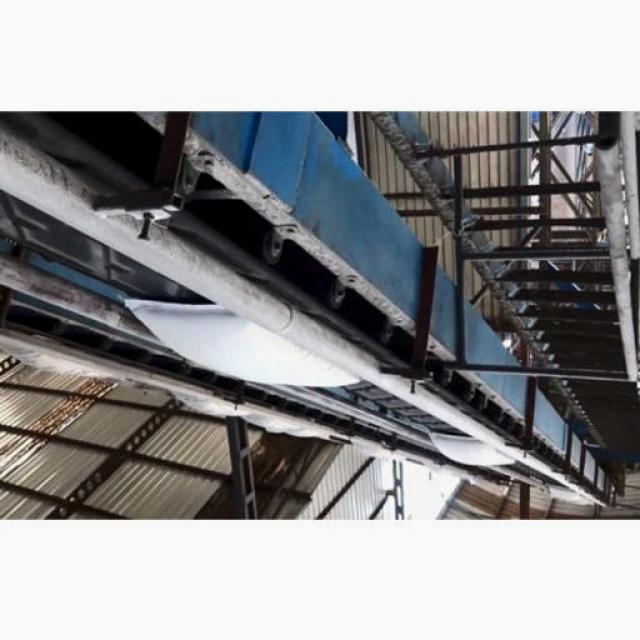conveyor: (0, 164, 601, 502)
